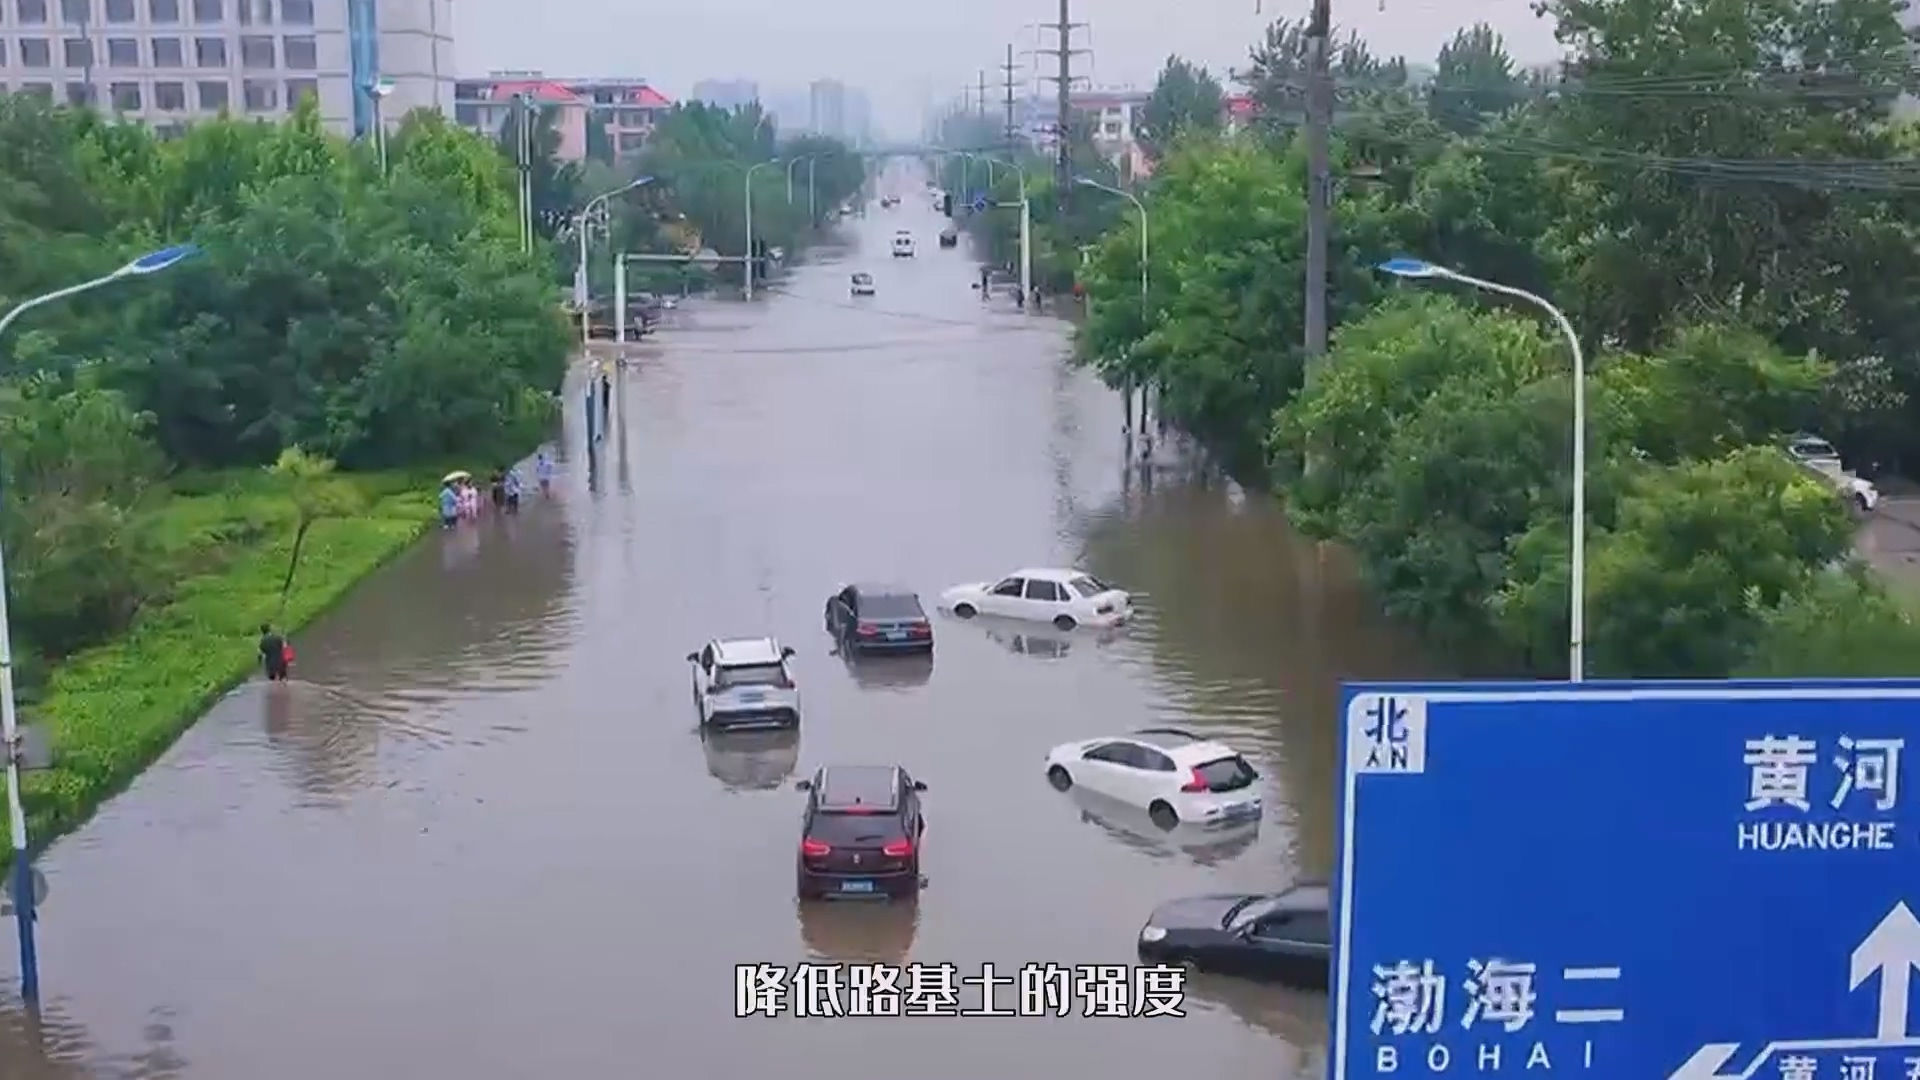puddle: (26, 425, 1357, 1080)
